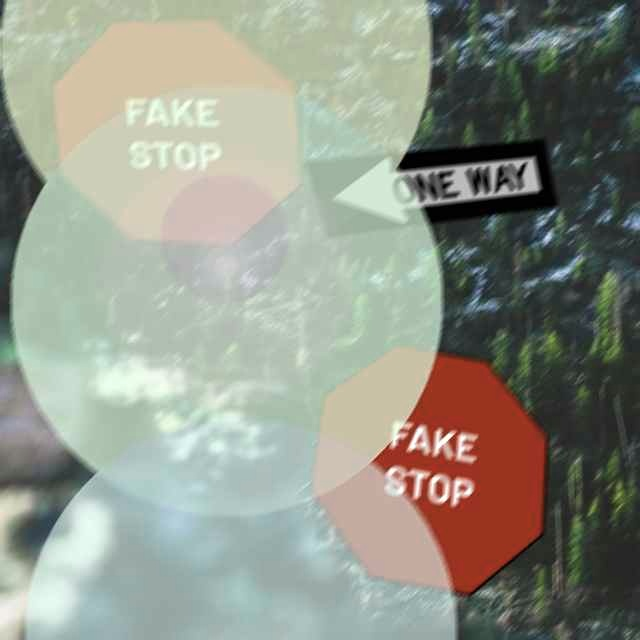FAKE_STOP: (309, 344, 549, 597), (51, 19, 304, 247)
ONE_WAY_ left: (305, 139, 558, 238)
